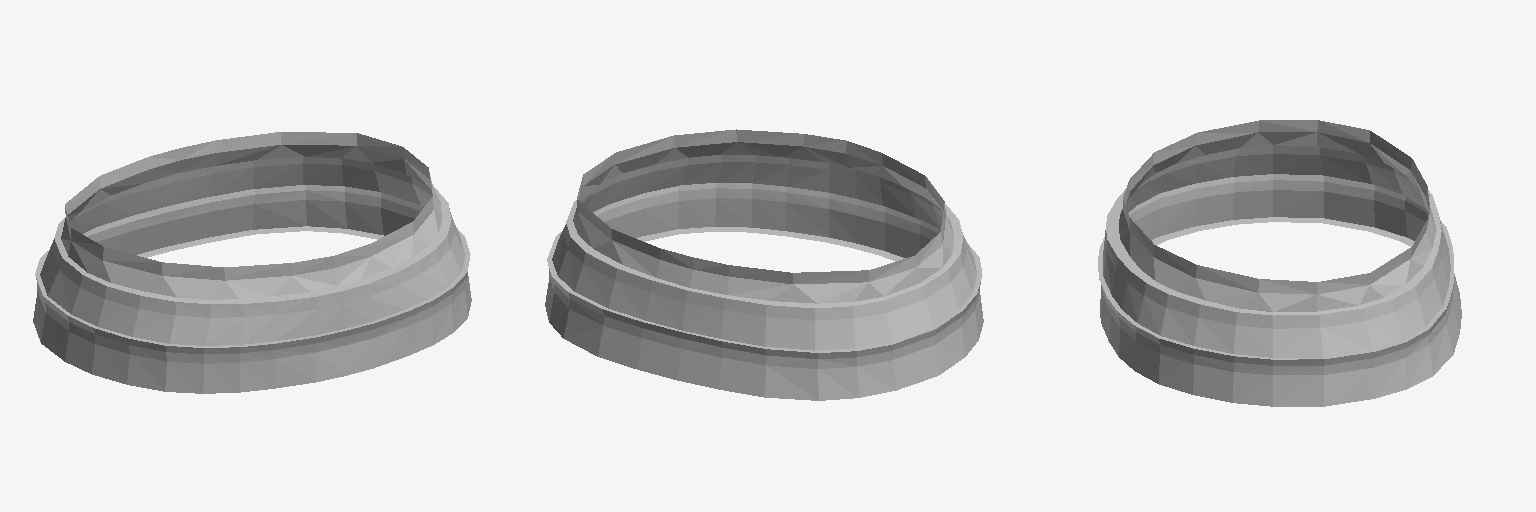
Rendered from ceinture_basse.obj.
3 renders of one model, left to right at view 1: azimuth 30°, elevation 25°; view 2: azimuth 150°, elevation 25°; view 3: azimuth 270°, elevation 25°, orthographic.
Visible parts, largest first — view 1: Soi_SimpleArmor.018_Plane.026; view 2: Soi_SimpleArmor.018_Plane.026; view 3: Soi_SimpleArmor.018_Plane.026.
Boxes of the visible parts, <box> form: Soi_SimpleArmor.018_Plane.026: <box>33,132,471,393</box>; Soi_SimpleArmor.018_Plane.026: <box>545,129,983,400</box>; Soi_SimpleArmor.018_Plane.026: <box>1098,120,1461,406</box>.
Size of the model in its own units: 0.3836 by 0.1091 by 0.3111.